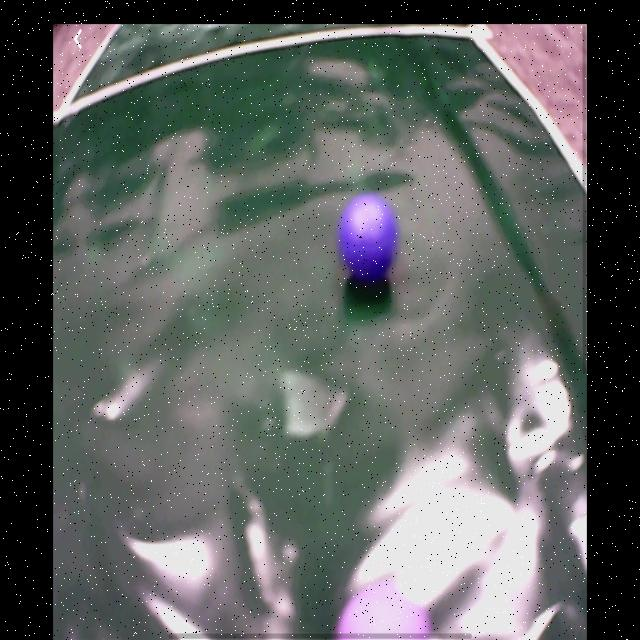ball: (336, 575, 433, 638), (338, 190, 399, 286)
